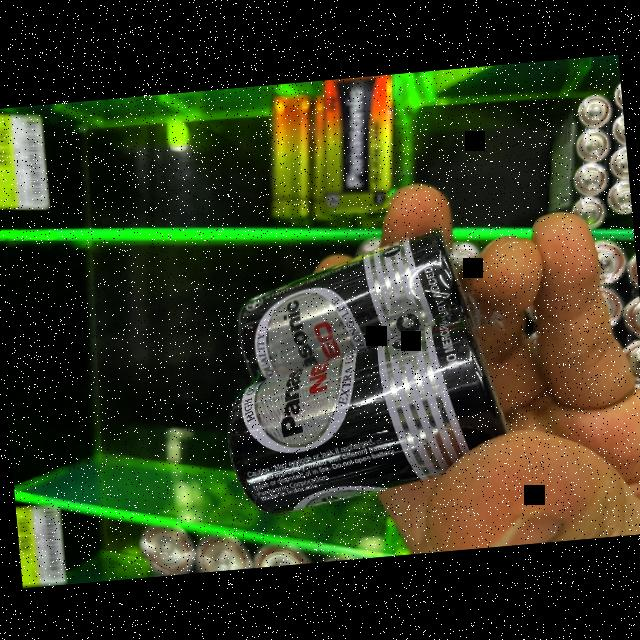battery: (219, 306, 511, 522), (221, 225, 481, 387), (131, 459, 377, 576), (258, 76, 410, 236), (523, 77, 633, 236), (566, 229, 640, 401)
